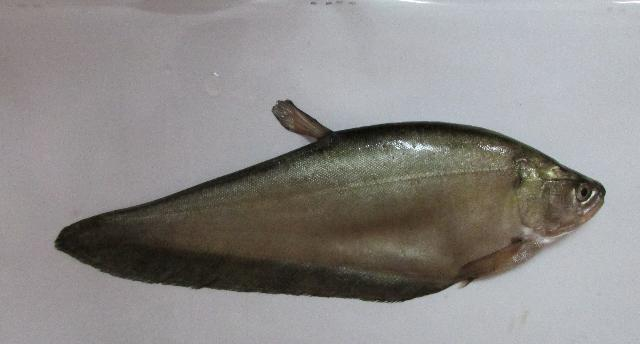Mulut: (578, 178, 614, 218)
Sirip Dada: (452, 234, 528, 292)
Sirip Punggung: (266, 94, 346, 156)
